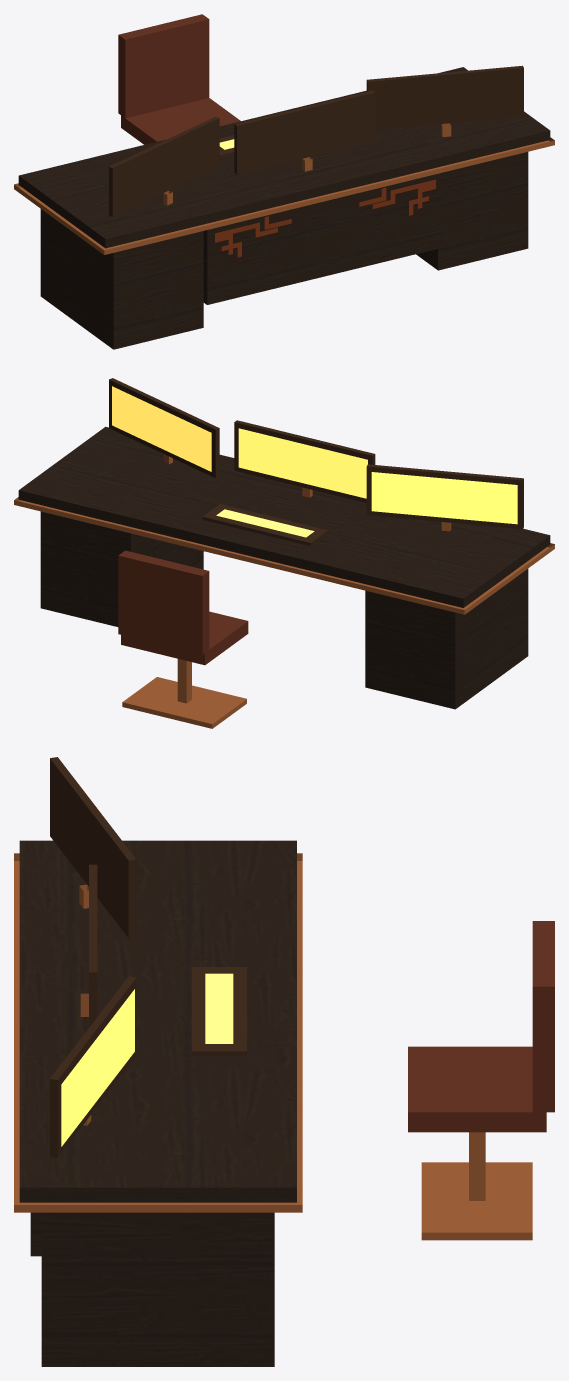
File: workstation.glb
The picture shows the model from 3 angles, top to bottom: view 1: azimuth 30°, elevation 25°; view 2: azimuth 150°, elevation 25°; view 3: azimuth 270°, elevation 25°; orthographic projection. The views are drawn at different scales.
Visible parts, largest first — view 1: workstation; view 2: workstation; view 3: workstation.
Boxes of the visible parts, x1,y1,x2,y2 form: workstation: (14, 14, 554, 349); workstation: (14, 378, 554, 728); workstation: (14, 757, 554, 1366).
Size of the model in its own units: 3 by 1.14 by 1.95.
Materials: 6 (1 with a texture image).
